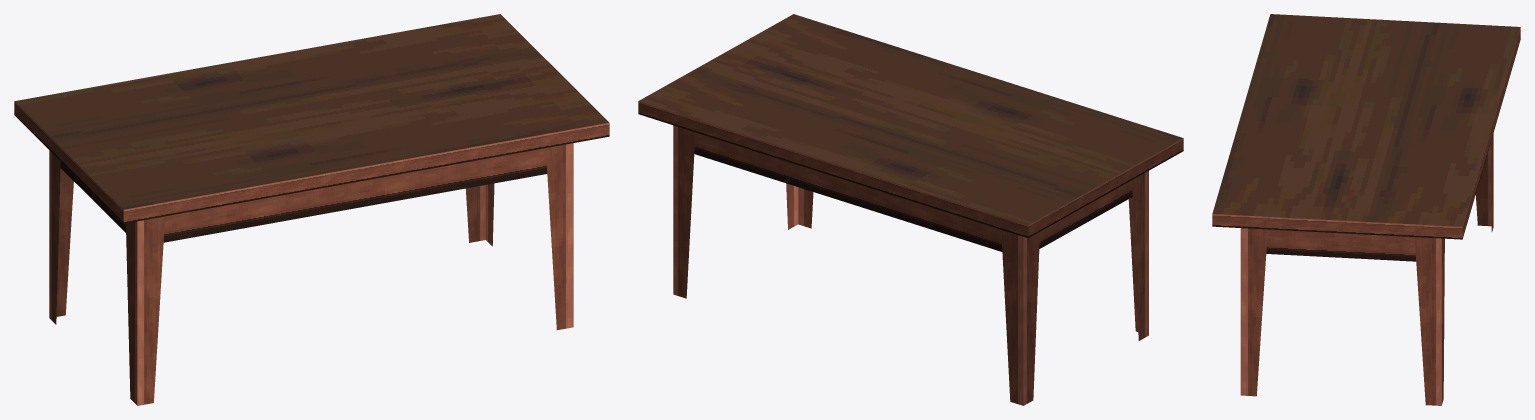
The model's file is primary_011.glb.
The picture shows the model from 3 angles, left to right: view 1: azimuth 30°, elevation 25°; view 2: azimuth 150°, elevation 25°; view 3: azimuth 270°, elevation 25°; orthographic projection. The views are drawn at different scales.
Parts seen in each view (by area): view 1: Object; view 2: Object; view 3: Object.
Part boxes in pixels (x1,y1,x2,y2): Object: (14, 14, 609, 405); Object: (638, 14, 1183, 405); Object: (1212, 14, 1520, 405).
Bounding box in the file's own units: 2.8 × 1.17 × 1.71.
Materials: 4 (4 with a texture image).
